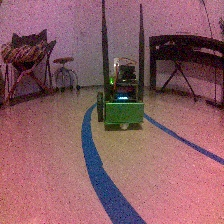rob: (95, 63, 144, 131)
